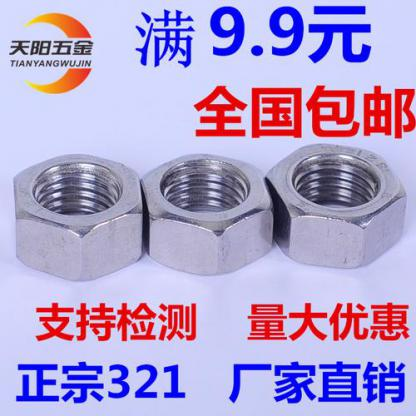FOD: (260, 140, 410, 272), (132, 153, 279, 278), (13, 151, 143, 282)
